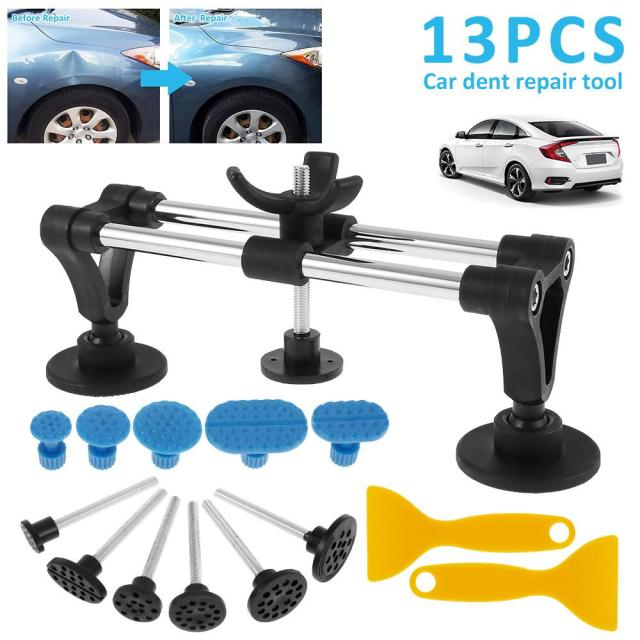dent: (53, 49, 93, 86)
